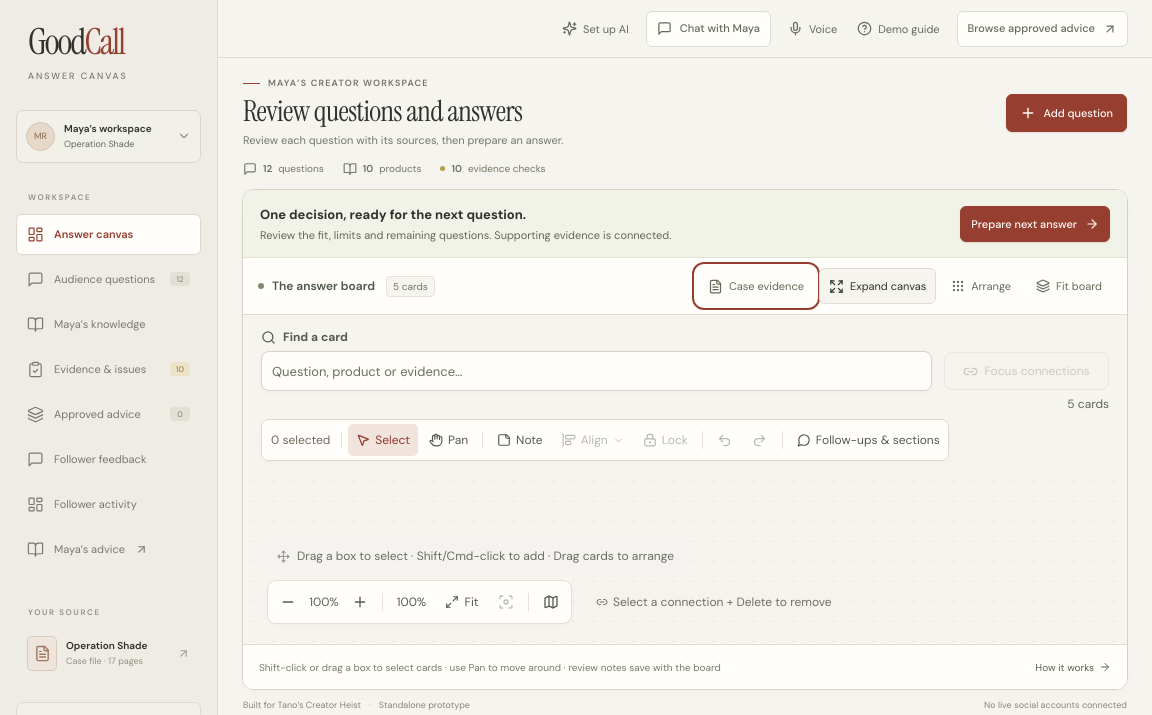
Test case: publication failure recovery › still closes on a genuine backdrop click and restores the opener
What coordinates should you click on to do the following:
click the button "Case evidence"
I would click on:
 (756, 286)
Its box is [698,268,814,304].
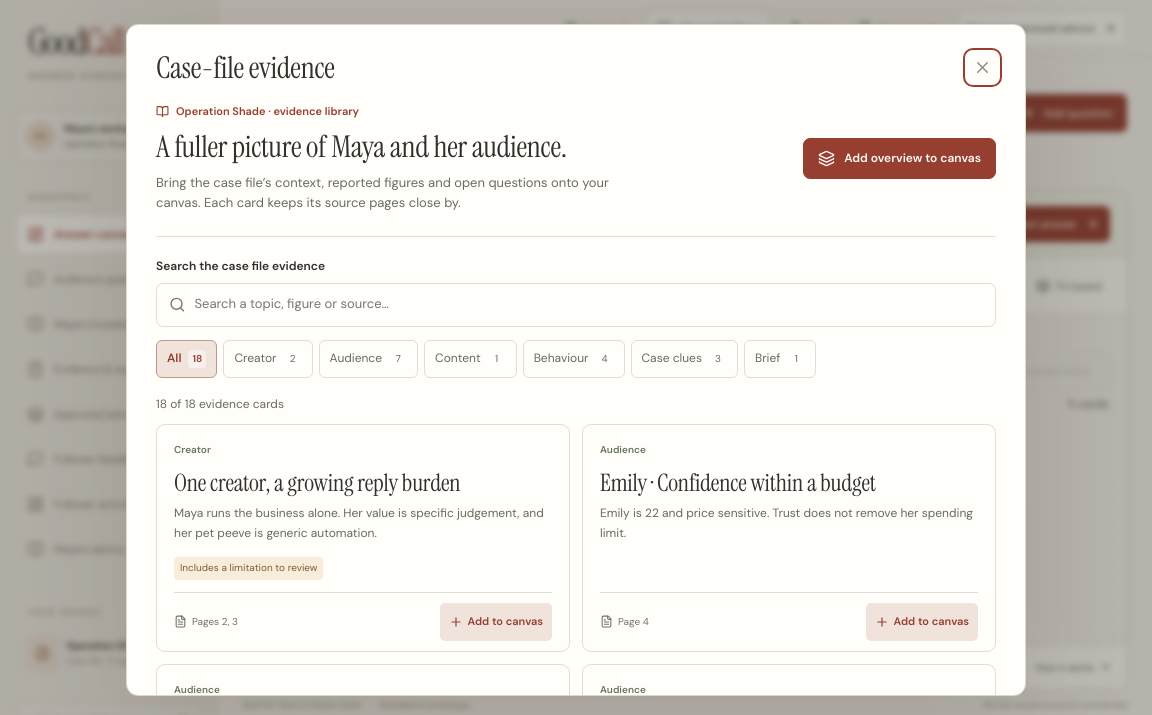
What coordinates should you click on to do the following:
click the dialog "Case-file evidence"
I would click on:
 (576, 360)
Its box is [126,24,1026,696].
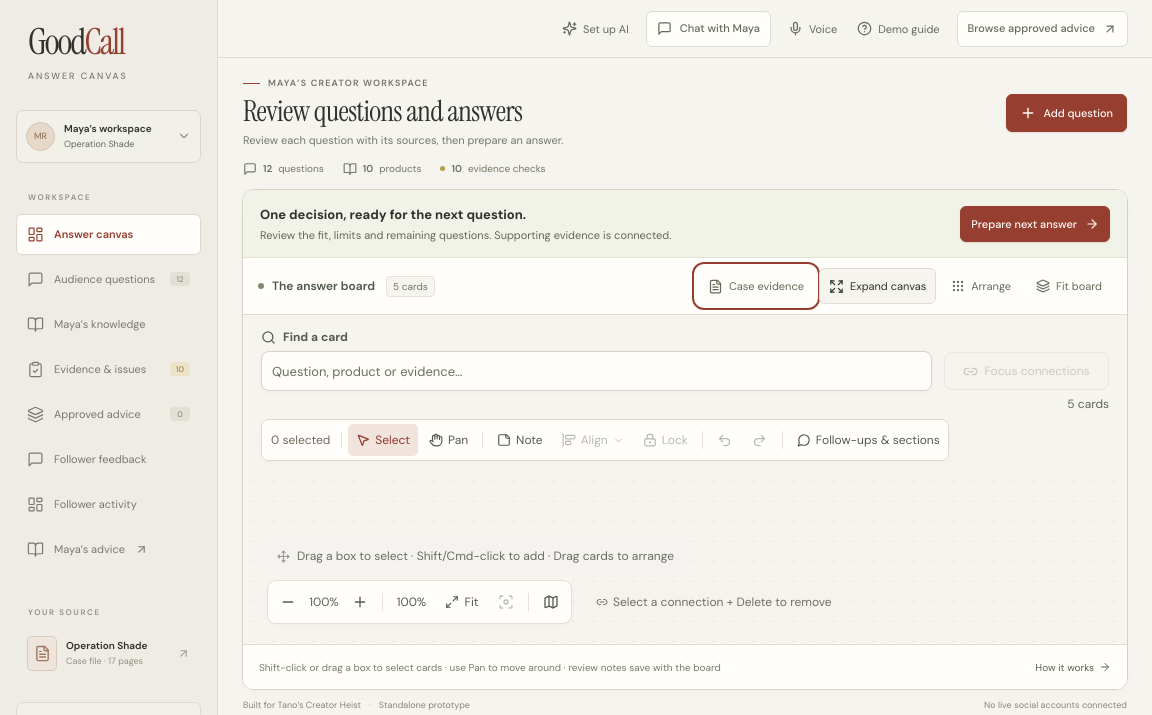
expect the dialog is gone: met
